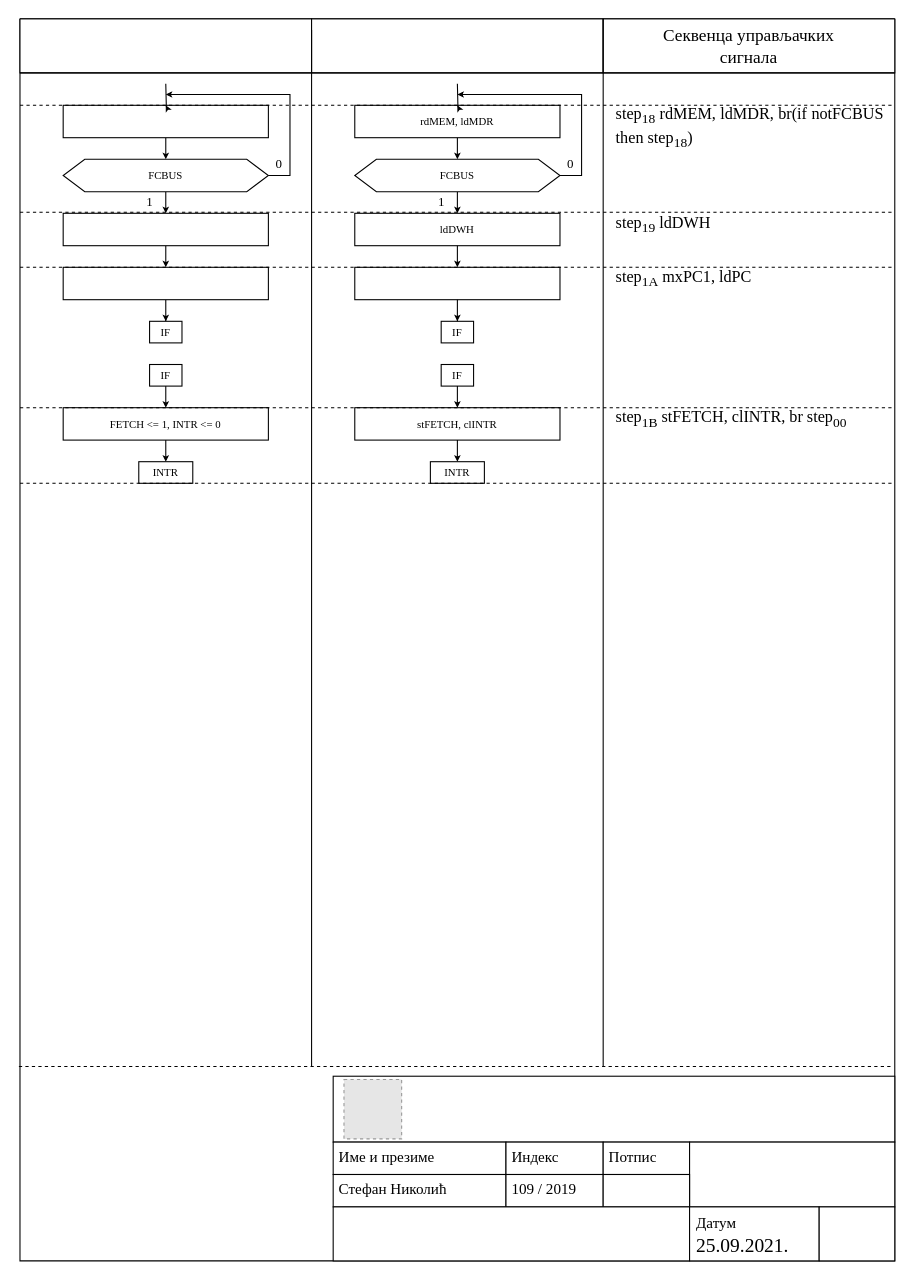
Some shapes in this 915 by 1280 pixel diagram are drawn without their labels. Grey dashed boxes stand in for pictures. Here are the shapes that lost their labels. From the top down, the box of each, then its label:
(19, 18, 312, 73): Дијаграм тока микрооперација
(310, 18, 603, 73): Дијаграм тока управљачких сигнала
(62, 104, 268, 138): MDR 7..0 <= MEM[MAR 15..0 ] 7..0
(62, 212, 268, 246): DWH 7..0 <= MDR 7..0
(62, 266, 268, 300): PC 15..0 <= DW 15..0
(354, 266, 560, 300): mxPC1, ldPC
(332, 1075, 895, 1142): Универзитет у Београду Електротехнички факултет
(688, 1141, 895, 1207): Пројекат Задатак 209
(332, 1206, 690, 1261): Назив Основи рачунарске технике 2
(818, 1206, 895, 1261): Страна 18
